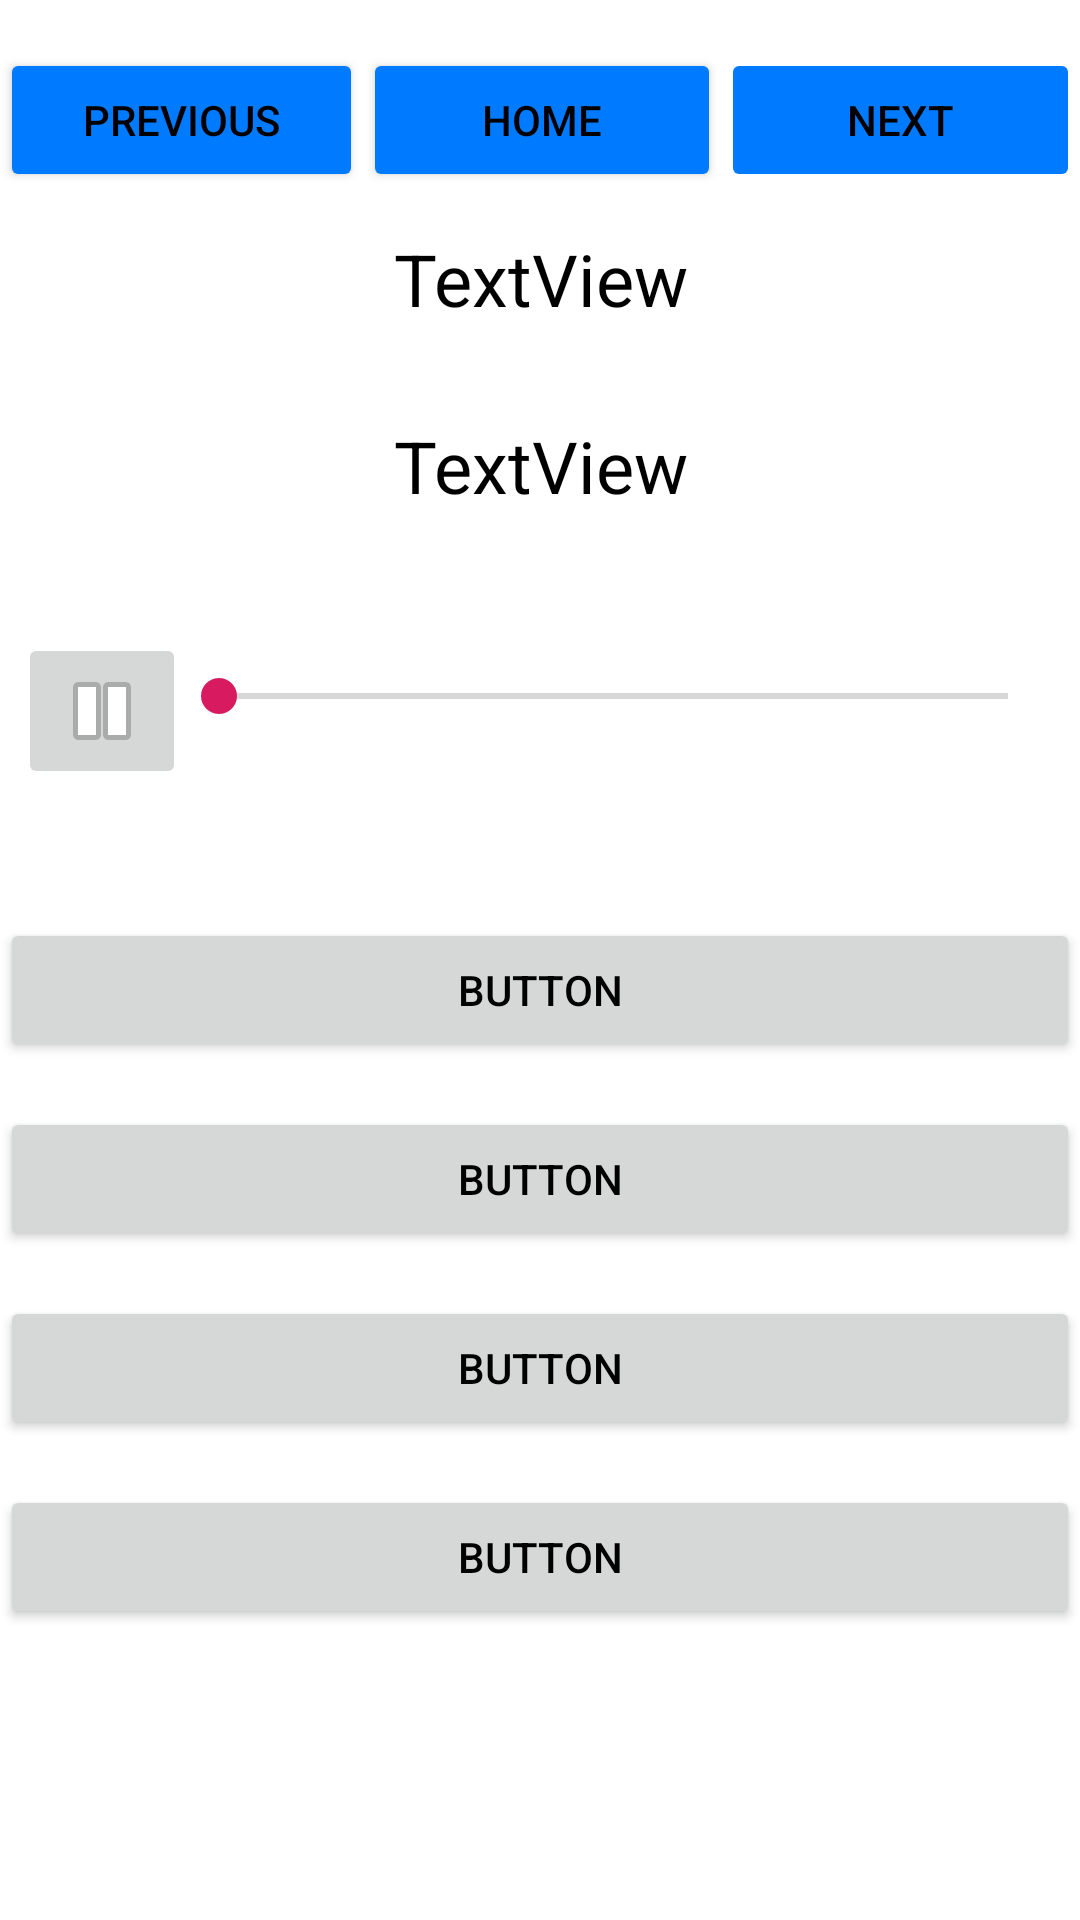

Where icons sit on this 1080*1920 app screen, as {"x1": x1, "y1": y1, "x2": x2, "y2": y2}:
pause: {"x1": 30, "y1": 651, "x2": 174, "y2": 771}
